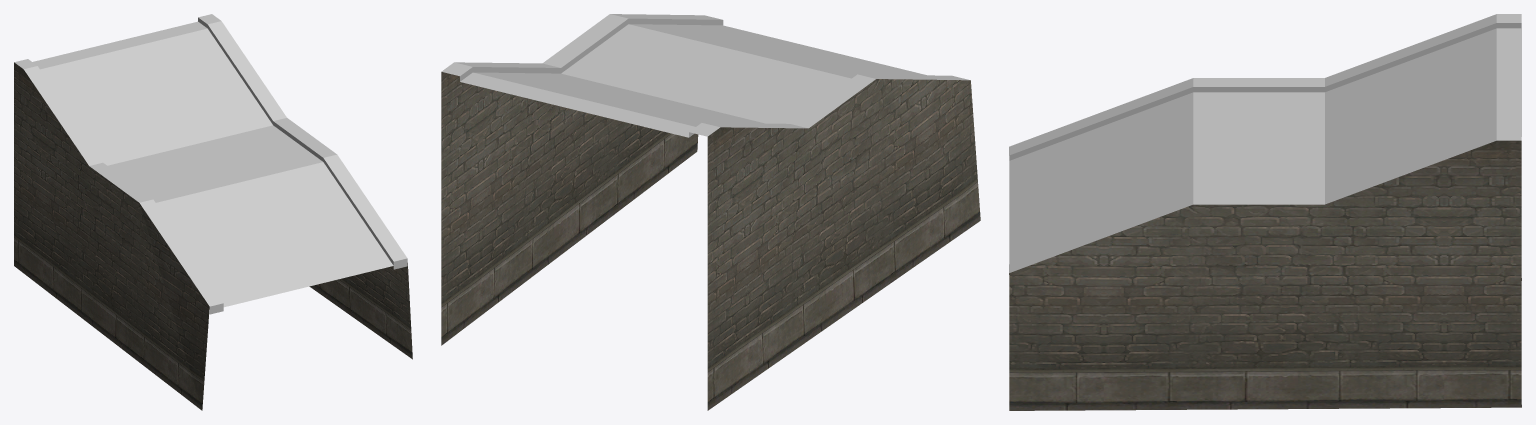
Rendered from s7_jianzhu_pingtai003.FBX.
The picture shows the model from 3 angles, left to right: view 1: azimuth 30°, elevation 25°; view 2: azimuth 150°, elevation 25°; view 3: azimuth 270°, elevation 25°; orthographic projection. The views are drawn at different scales.
Visible parts, largest first — view 1: s7_jianzhu_pingtai003, Object063; view 2: Object063, s7_jianzhu_pingtai003; view 3: Object063, s7_jianzhu_pingtai003.
Part boxes in pixels (x1,y1,x2,y2): s7_jianzhu_pingtai003: (14, 14, 407, 314); Object063: (14, 62, 412, 410); Object063: (441, 72, 980, 410); s7_jianzhu_pingtai003: (441, 14, 969, 137); Object063: (1009, 140, 1521, 410); s7_jianzhu_pingtai003: (1009, 14, 1521, 272).
Size of the model in its own units: 11.79 by 10.9 by 18.97.
